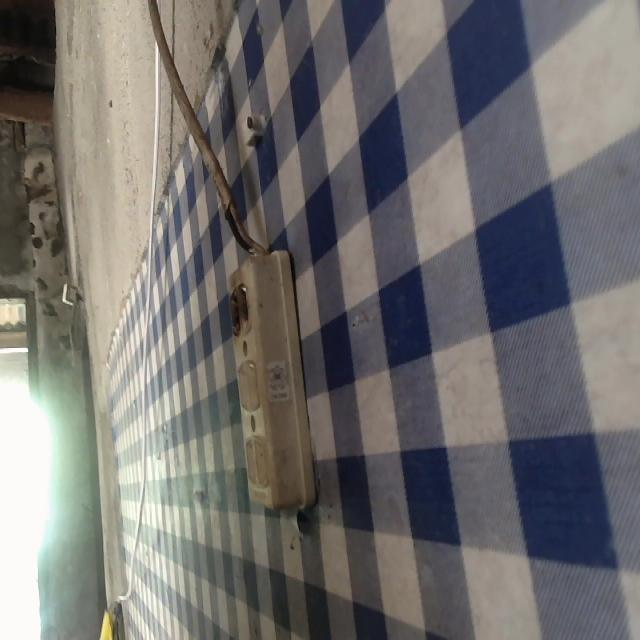-: (226, 280, 257, 340)
